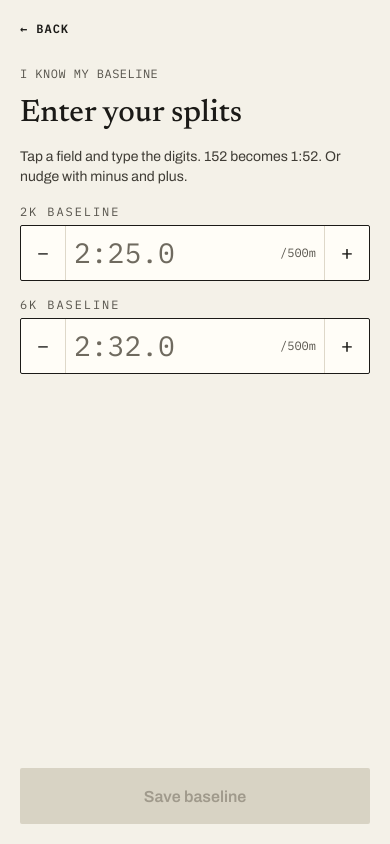
Test: KnowBaseline (door 2) › surfaces a save failure and stays put
The image size is (390, 844).
In the field named "2k split": (173, 253) [74,231,272,275], type "158"
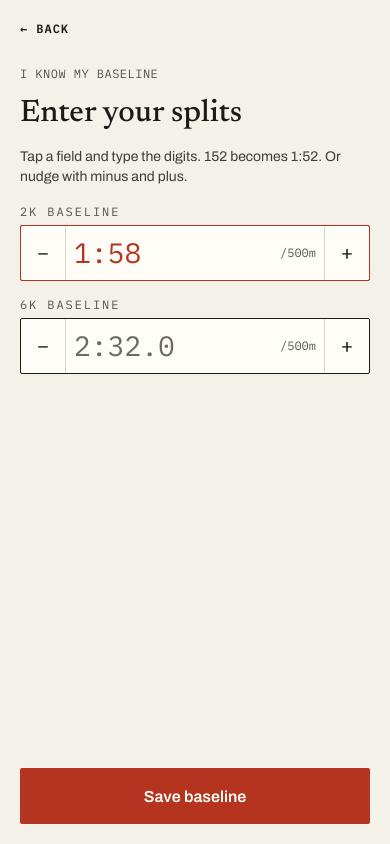
Click the button "Save baseline": click(195, 796) [20,768,370,824]
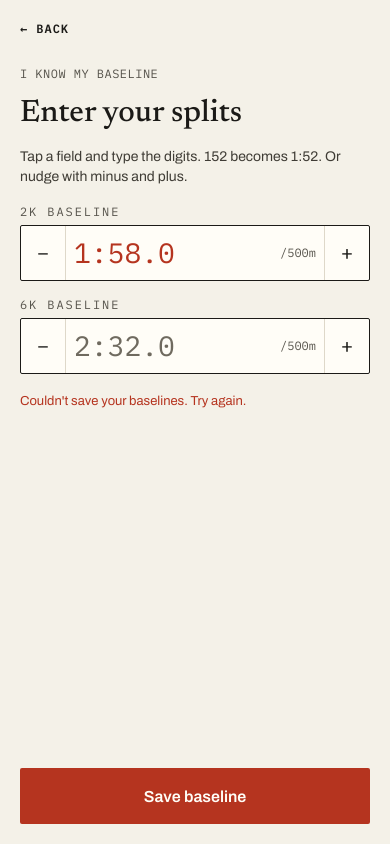
expect the text "Couldn't save your baselines. Try again." is shown: met, box [20,394,246,408]
